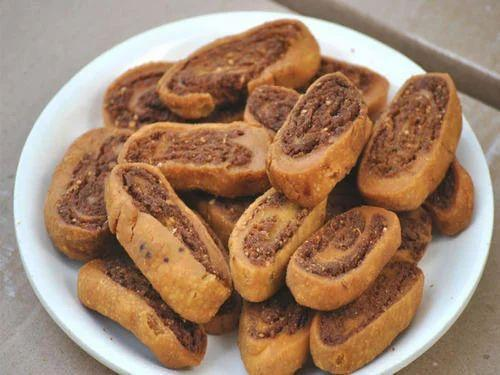bhakarwadi: (46, 19, 476, 375)
